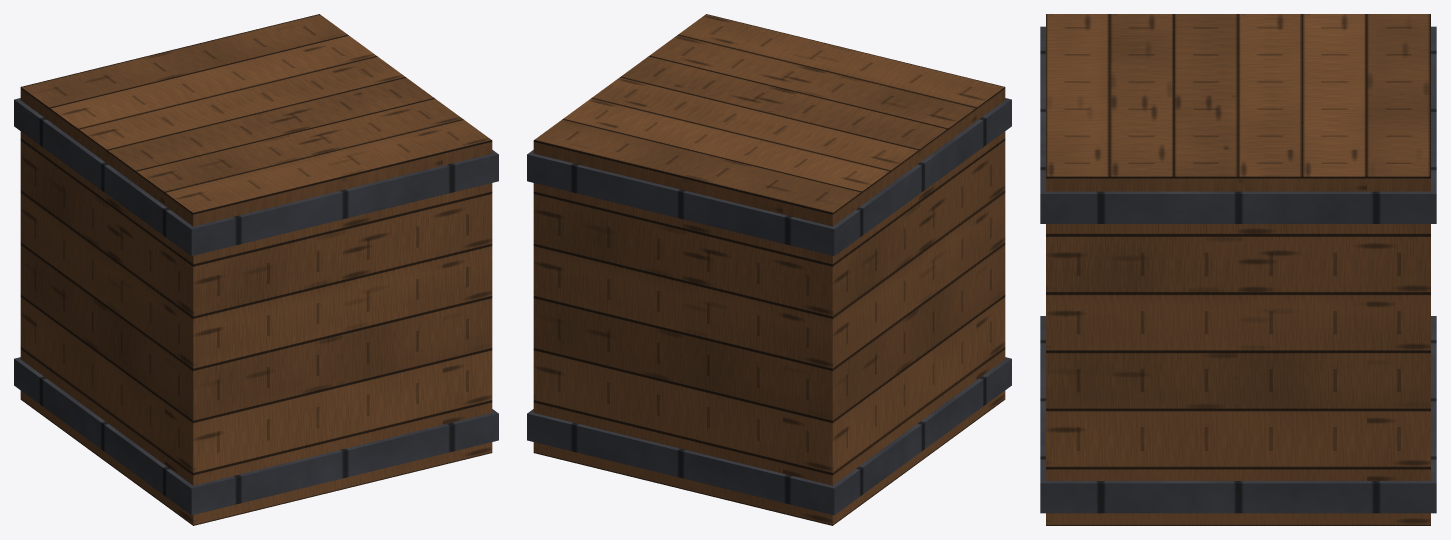
Rendered from crate.glb.
The picture shows the model from 3 angles, left to right: view 1: azimuth 30°, elevation 25°; view 2: azimuth 150°, elevation 25°; view 3: azimuth 270°, elevation 25°; orthographic projection. The views are drawn at different scales.
Visible parts, largest first — view 1: crate; view 2: crate; view 3: crate.
Boxes of the visible parts, x1,y1,x2,y2 form: crate: (14,14,498,525); crate: (527,14,1011,525); crate: (1040,14,1436,525).
Bounding box in the file's own units: 0.72 × 0.7 × 0.72.
2 materials, 2 textured.
